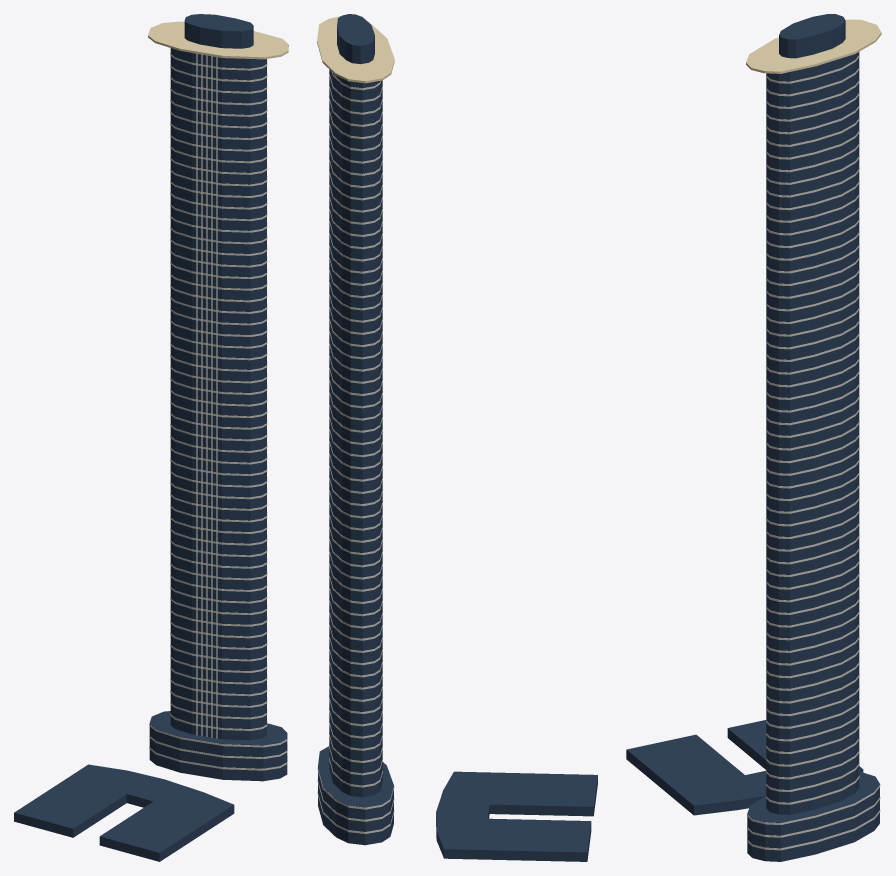
The model's file is opera-grand.glb.
3 views of the same model, side by side, from view 1: azimuth 30°, elevation 25°; view 2: azimuth 150°, elevation 25°; view 3: azimuth 270°, elevation 25° (orthographic). The views are drawn at different scales.
Parts seen in each view (by area): view 1: B_1047612078_opera-grand, B_723559997_opera-grand, B_1047612078_opera-grand_gold, mullion.050, mullion.051, mullion.052, mullion.053, mullion.054; view 2: B_1047612078_opera-grand, B_723559997_opera-grand, B_1047612078_opera-grand_gold; view 3: B_1047612078_opera-grand, B_723559997_opera-grand, B_1047612078_opera-grand_gold.
Boxes of the visible parts, x1,y1,x2,y2 form: B_1047612078_opera-grand: [149, 14, 287, 781]; B_723559997_opera-grand: [14, 764, 234, 861]; B_1047612078_opera-grand_gold: [148, 21, 288, 59]; mullion.050: [196, 53, 197, 735]; mullion.051: [201, 54, 202, 736]; mullion.052: [206, 55, 207, 736]; mullion.053: [211, 56, 212, 737]; mullion.054: [216, 57, 217, 738]; B_1047612078_opera-grand: [318, 14, 393, 845]; B_723559997_opera-grand: [436, 771, 597, 861]; B_1047612078_opera-grand_gold: [317, 16, 394, 83]; B_1047612078_opera-grand: [747, 14, 879, 861]; B_723559997_opera-grand: [626, 720, 863, 815]; B_1047612078_opera-grand_gold: [746, 19, 881, 73].
Size of the model in its own units: 106 by 288 by 82.23.
